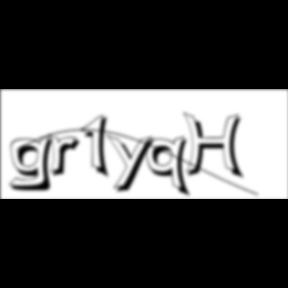1: (80, 114, 116, 182)
H: (183, 112, 249, 182)
g: (9, 134, 61, 194)
q: (146, 135, 194, 200)
r: (49, 134, 87, 180)
y: (106, 132, 160, 196)
